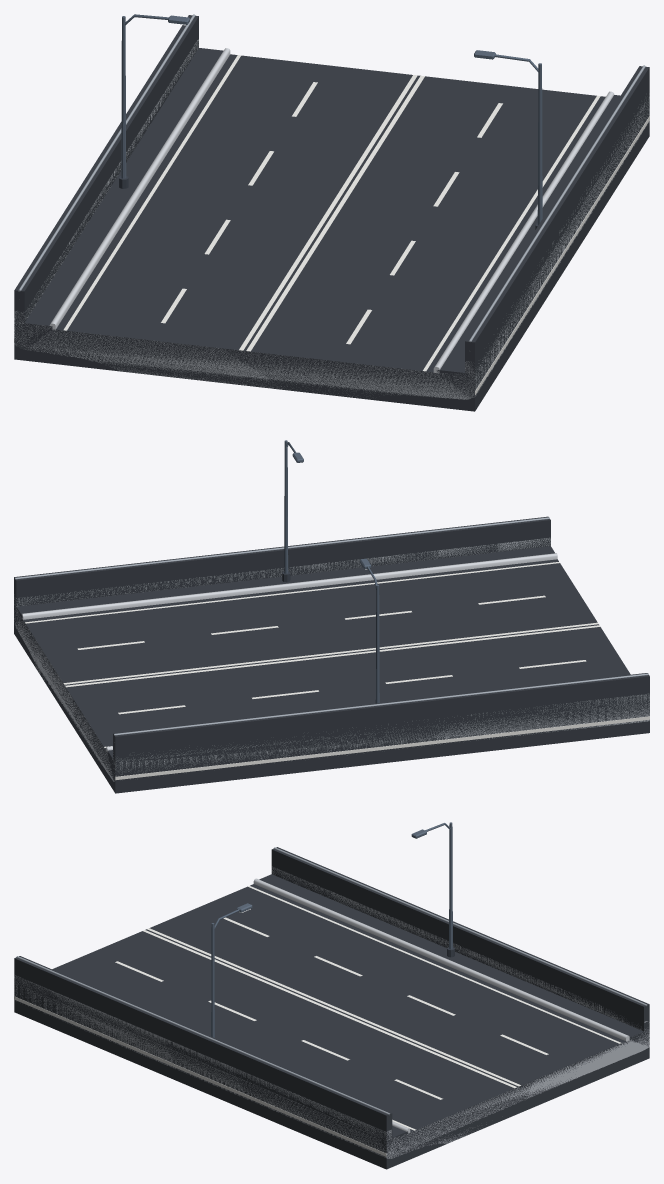
Rendered from ponte_diagonal_vao_avenida.glb.
The picture shows the model from 3 angles, top to bottom: view 1: azimuth 30°, elevation 25°; view 2: azimuth 150°, elevation 25°; view 3: azimuth 270°, elevation 25°; orthographic projection. The views are drawn at different scales.
Parts seen in each view (by area): view 1: colisao_tabuleiro, ponte_diagonal_vao_avenida; view 2: colisao_tabuleiro, ponte_diagonal_vao_avenida; view 3: colisao_tabuleiro, ponte_diagonal_vao_avenida.
Boxes of the visible parts, bbox=[...] form: colisao_tabuleiro: bbox=[14, 15, 649, 411]; ponte_diagonal_vao_avenida: bbox=[14, 14, 649, 399]; colisao_tabuleiro: bbox=[14, 516, 649, 793]; ponte_diagonal_vao_avenida: bbox=[14, 440, 649, 781]; colisao_tabuleiro: bbox=[14, 847, 649, 1169]; ponte_diagonal_vao_avenida: bbox=[14, 822, 649, 1158].
Bounding box in the file's own units: 25.62 × 7.38 × 25.62.
Materials: 2 (1 with a texture image).
